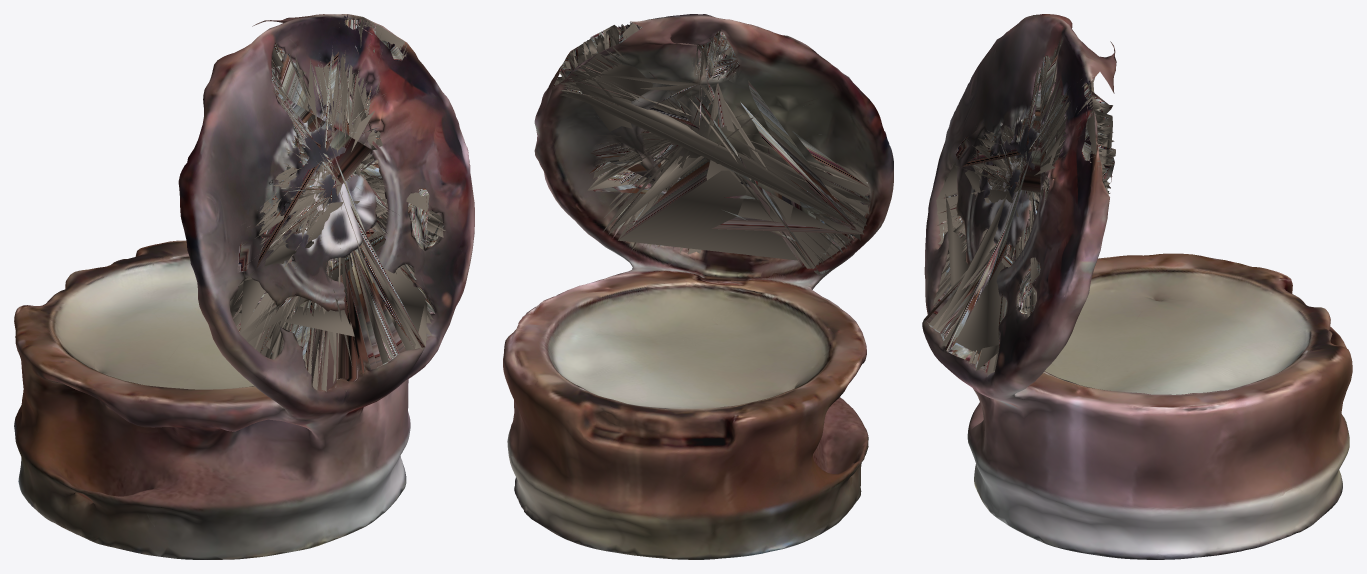
The model's file is Base Polvo Blanco.glb.
3 views of the same model, side by side, from view 1: azimuth 30°, elevation 25°; view 2: azimuth 150°, elevation 25°; view 3: azimuth 270°, elevation 25° (orthographic). The views are drawn at different scales.
Visible parts, largest first — view 1: Mesh_0; view 2: Mesh_0; view 3: Mesh_0.
Boxes of the visible parts, <box> form: Mesh_0: <box>14,14,474,559</box>; Mesh_0: <box>503,14,893,559</box>; Mesh_0: <box>922,14,1352,559</box>.
Size of the model in its own units: 5.48 by 6.57 by 5.55.
Materials: 1 (1 with a texture image).
